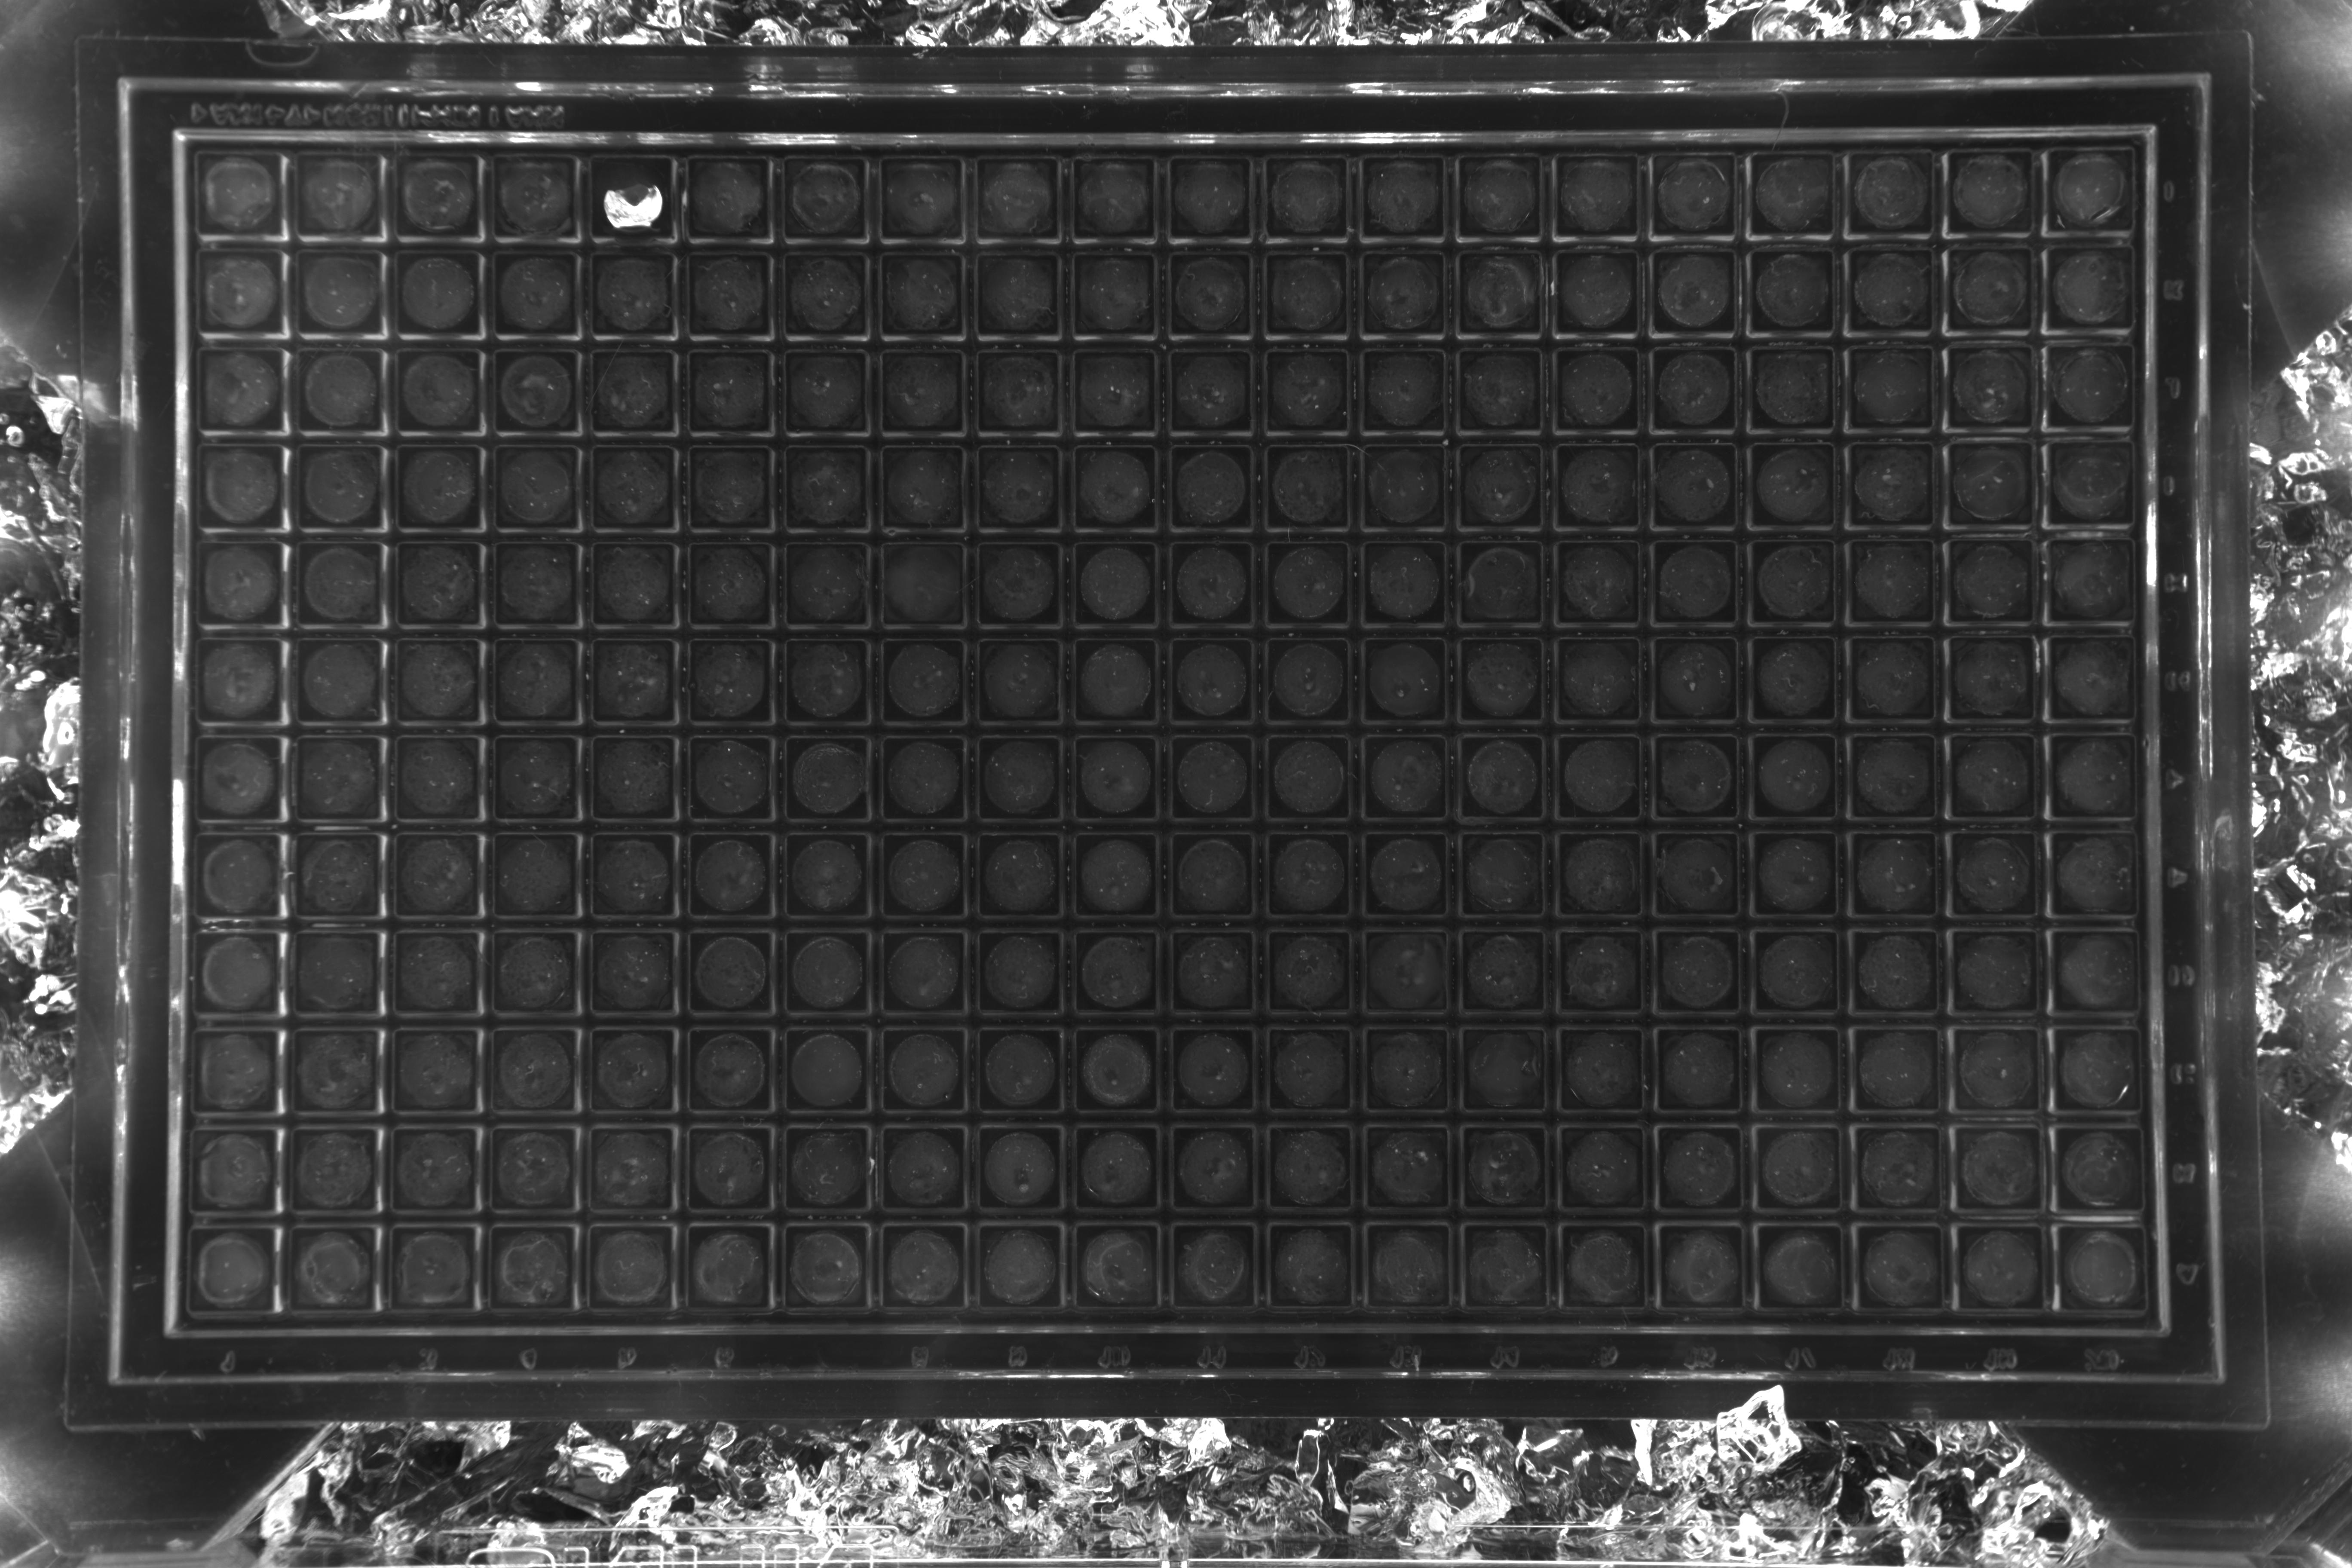WM_well: (2063, 1351, 2152, 1440), (982, 947, 1071, 1034), (1666, 1346, 1755, 1433), (294, 1143, 381, 1230), (296, 1043, 383, 1130), (593, 847, 681, 934), (595, 751, 682, 838), (787, 947, 875, 1034), (882, 1239, 969, 1326), (887, 462, 975, 549), (983, 366, 1071, 453), (1176, 1241, 1263, 1328), (1368, 367, 1456, 455), (1368, 560, 1456, 647), (1370, 656, 1458, 744), (1466, 850, 1554, 938), (1470, 1342, 1557, 1430), (1566, 1048, 1654, 1136), (1661, 464, 1748, 551), (1664, 950, 1752, 1038), (1764, 1050, 1851, 1137), (1862, 952, 1949, 1039), (1865, 1349, 1953, 1437), (2054, 268, 2142, 355)
